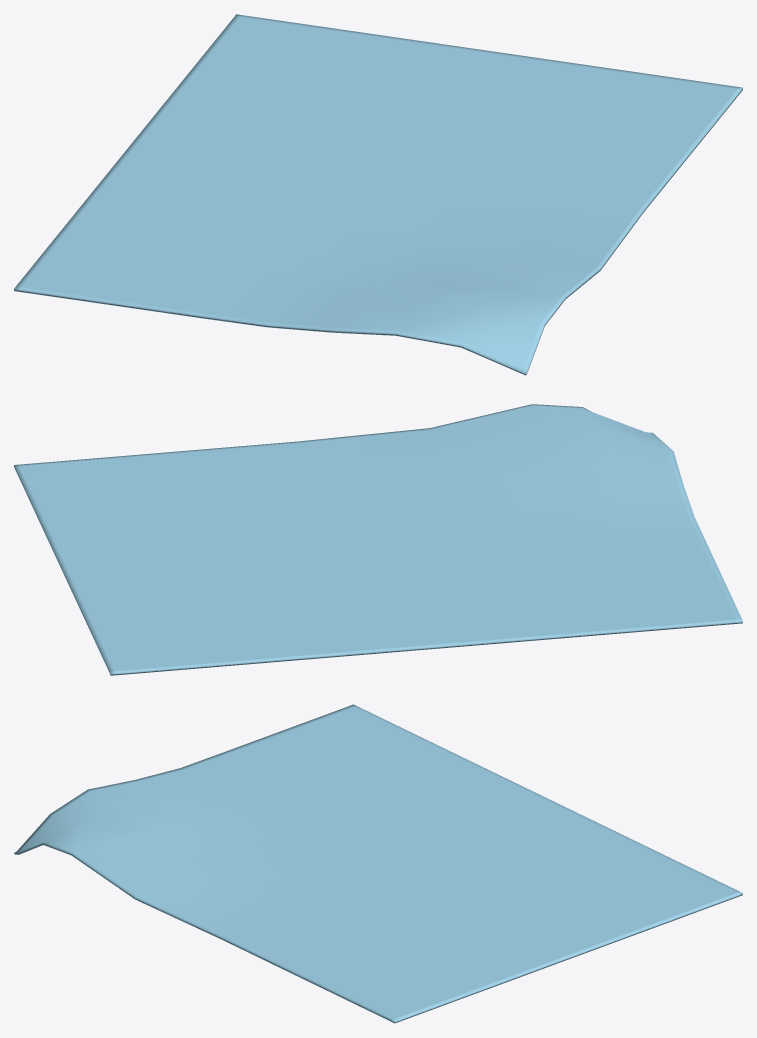
Rendered from Paper_01_low.fbx.
3 renders of one model, top to bottom at view 1: azimuth 30°, elevation 25°; view 2: azimuth 150°, elevation 25°; view 3: azimuth 270°, elevation 25°, orthographic. The views are drawn at different scales.
Parts seen in each view (by area): view 1: Paper_01_low; view 2: Paper_01_low; view 3: Paper_01_low.
Part boxes in pixels (<box>): Paper_01_low: <box>14,14,742,375</box>; Paper_01_low: <box>14,404,742,675</box>; Paper_01_low: <box>14,704,742,1023</box>.
Bounding box in the file's own units: 878 × 41.48 × 853.
